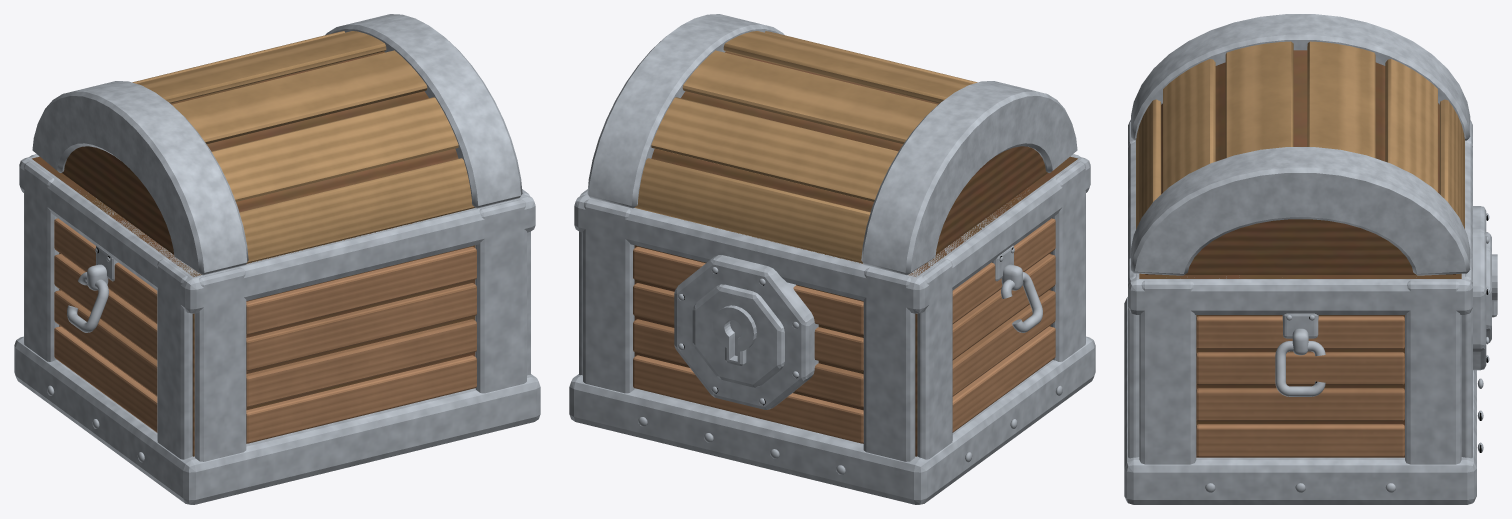
The model's file is SM_Chest_Iron_M_01.glb.
3 renders of one model, left to right at view 1: azimuth 30°, elevation 25°; view 2: azimuth 150°, elevation 25°; view 3: azimuth 270°, elevation 25°, orthographic.
Parts seen in each view (by area): view 1: SM_Chest_Iron_M_01_Body, SM_Chest_Iron_M_01_Lid; view 2: SM_Chest_Iron_M_01_Body, SM_Chest_Iron_M_01_Lid; view 3: SM_Chest_Iron_M_01_Body, SM_Chest_Iron_M_01_Lid.
Part boxes in pixels (x1,y1,x2,y2): SM_Chest_Iron_M_01_Body: [14, 154, 540, 504]; SM_Chest_Iron_M_01_Lid: [32, 14, 522, 275]; SM_Chest_Iron_M_01_Body: [569, 154, 1095, 504]; SM_Chest_Iron_M_01_Lid: [587, 14, 1077, 275]; SM_Chest_Iron_M_01_Body: [1124, 119, 1497, 504]; SM_Chest_Iron_M_01_Lid: [1131, 14, 1470, 275].
Bounding box in the file's own units: 2.45 × 1.93 × 1.97.
2 materials, 2 textured.
